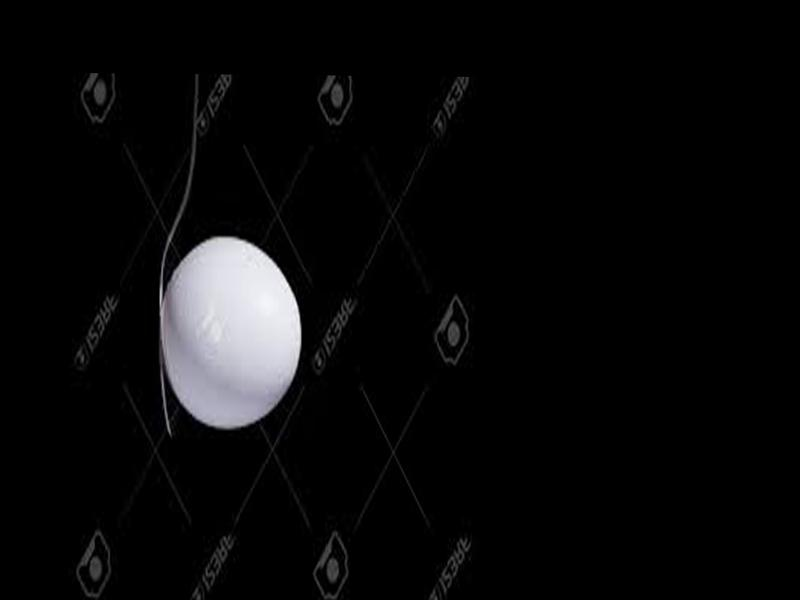Eggs: (159, 235, 300, 429)
